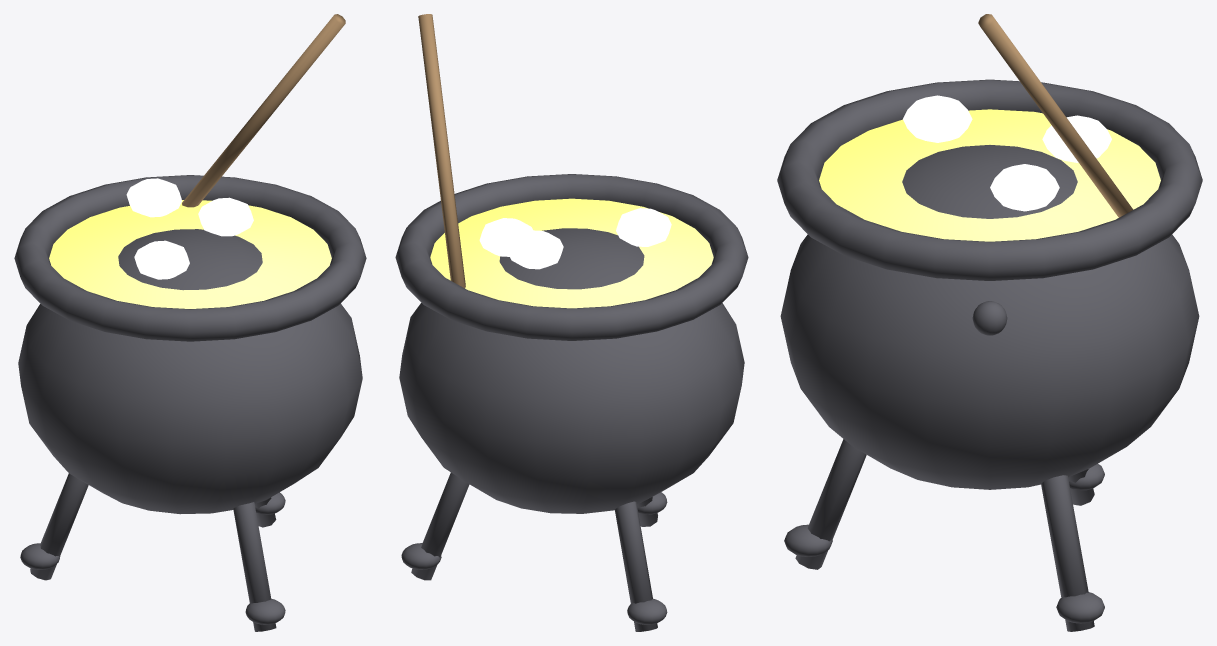
Rendered from world_cauldron.glb.
3 views of the same model, side by side, from view 1: azimuth 30°, elevation 25°; view 2: azimuth 150°, elevation 25°; view 3: azimuth 270°, elevation 25° (orthographic). The views are drawn at different scales.
Parts seen in each view (by area): view 1: world_cauldron; view 2: world_cauldron; view 3: world_cauldron.
Part boxes in pixels (<box>): world_cauldron: <box>14,14,366,631</box>; world_cauldron: <box>395,14,748,631</box>; world_cauldron: <box>777,14,1202,631</box>.
Size of the model in its own units: 1.22 by 2.02 by 1.22.
